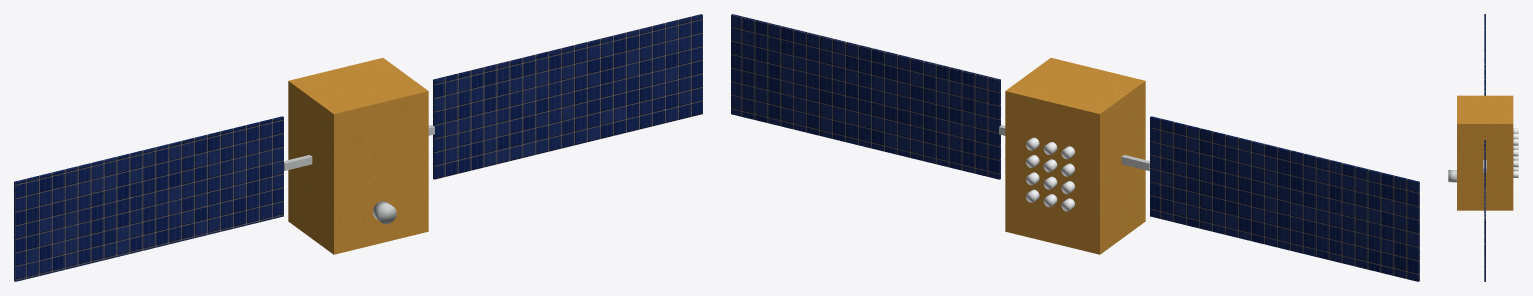
Rendered from gps.glb.
The picture shows the model from 3 angles, left to right: view 1: azimuth 30°, elevation 25°; view 2: azimuth 150°, elevation 25°; view 3: azimuth 270°, elevation 25°; orthographic projection. The views are drawn at different scales.
Parts seen in each view (by area): view 1: gps_wing_l, gps_wing_r, gps_bus, gps_engine; view 2: gps_wing_l, gps_wing_r, gps_bus, gps; view 3: gps_bus, gps, gps_wing_r, gps_wing_l, gps_engine.
Part boxes in pixels (x1,y1,x2,y2): gps_wing_l: (14,116,283,281); gps_wing_r: (433,14,702,179); gps_bus: (288,58,428,254); gps_engine: (372,201,396,224); gps_wing_l: (1150,116,1419,281); gps_wing_r: (731,14,1000,179); gps_bus: (1005,58,1145,254); gps: (1026,137,1074,211); gps_bus: (1457,95,1513,210); gps: (1513,128,1518,177); gps_wing_r: (1484,140,1485,281); gps_wing_l: (1484,14,1485,95); gps_engine: (1448,170,1456,182).
Size of the model in its own units: 17.4 by 3.4 by 2.49.
4 materials, 3 textured.
